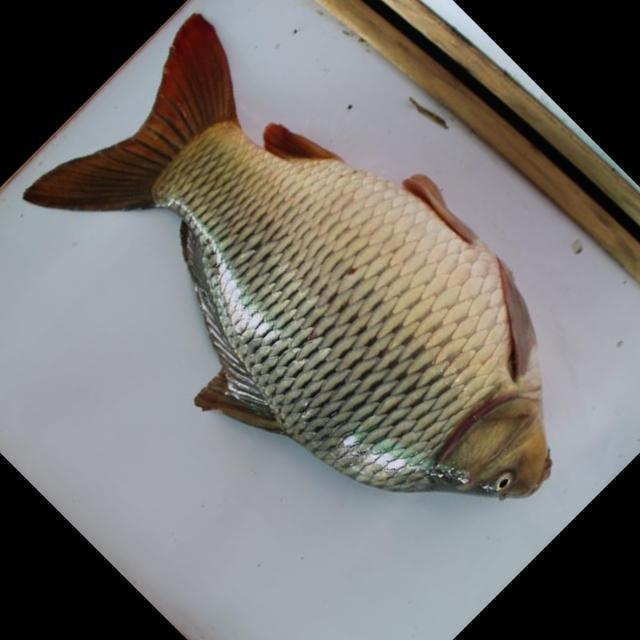CommonCarp: (20, 16, 578, 504)
